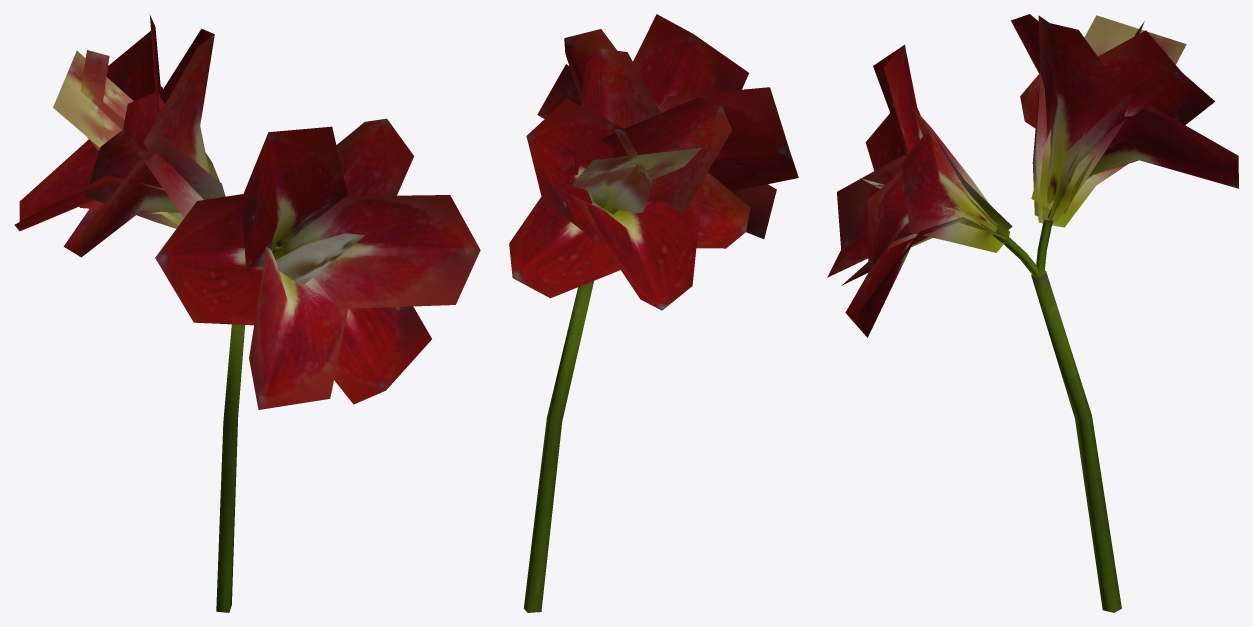
The model's file is Amaryllis_baby_short_red.glb.
The picture shows the model from 3 angles, left to right: view 1: azimuth 30°, elevation 25°; view 2: azimuth 150°, elevation 25°; view 3: azimuth 270°, elevation 25°; orthographic projection. The views are drawn at different scales.
Parts seen in each view (by area): view 1: baby; view 2: baby; view 3: baby.
Part boxes in pixels (bbox=[...]): baby: bbox=[14, 14, 480, 612]; baby: bbox=[509, 14, 798, 612]; baby: bbox=[827, 14, 1238, 612].
Bounding box in the file's own units: 0.6819 × 1.24 × 0.8184.
Materials: 1 (1 with a texture image).
